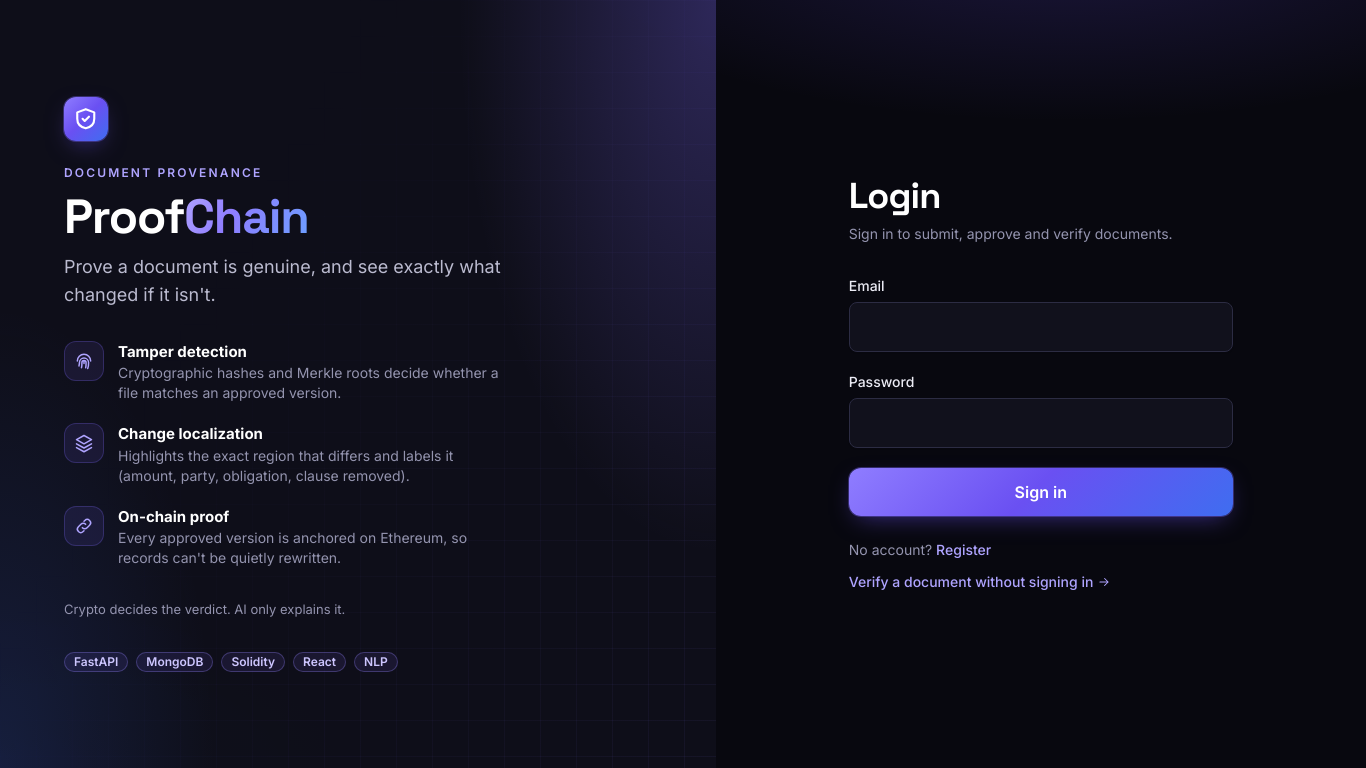
Test: Login page › shows the backend error message, never the password, on bad credentials
Type "a@b.com" into the field labelled "Email" at [1041, 327], box [849,302,1233,352]
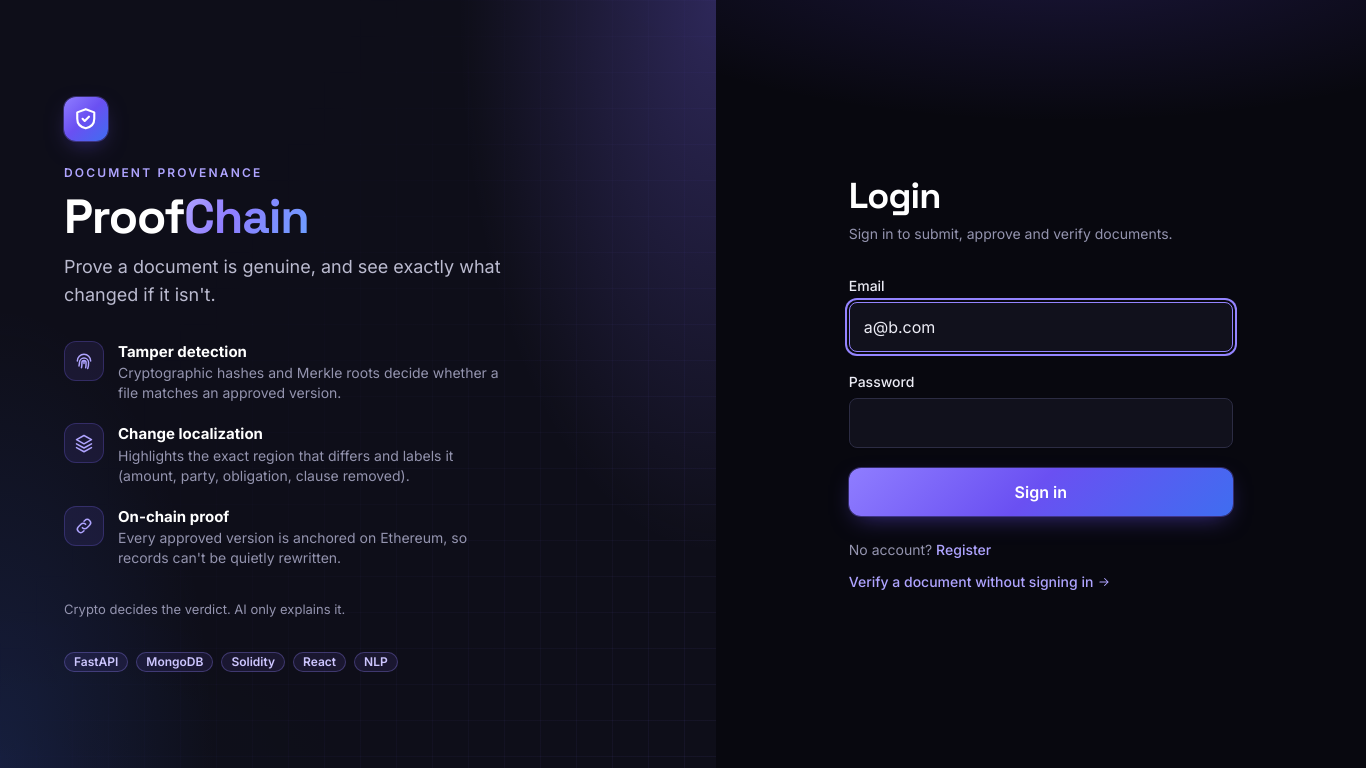
Type "definitely-secret-123" into the password field labelled "Password" at [1041, 423], box [849,398,1233,448]
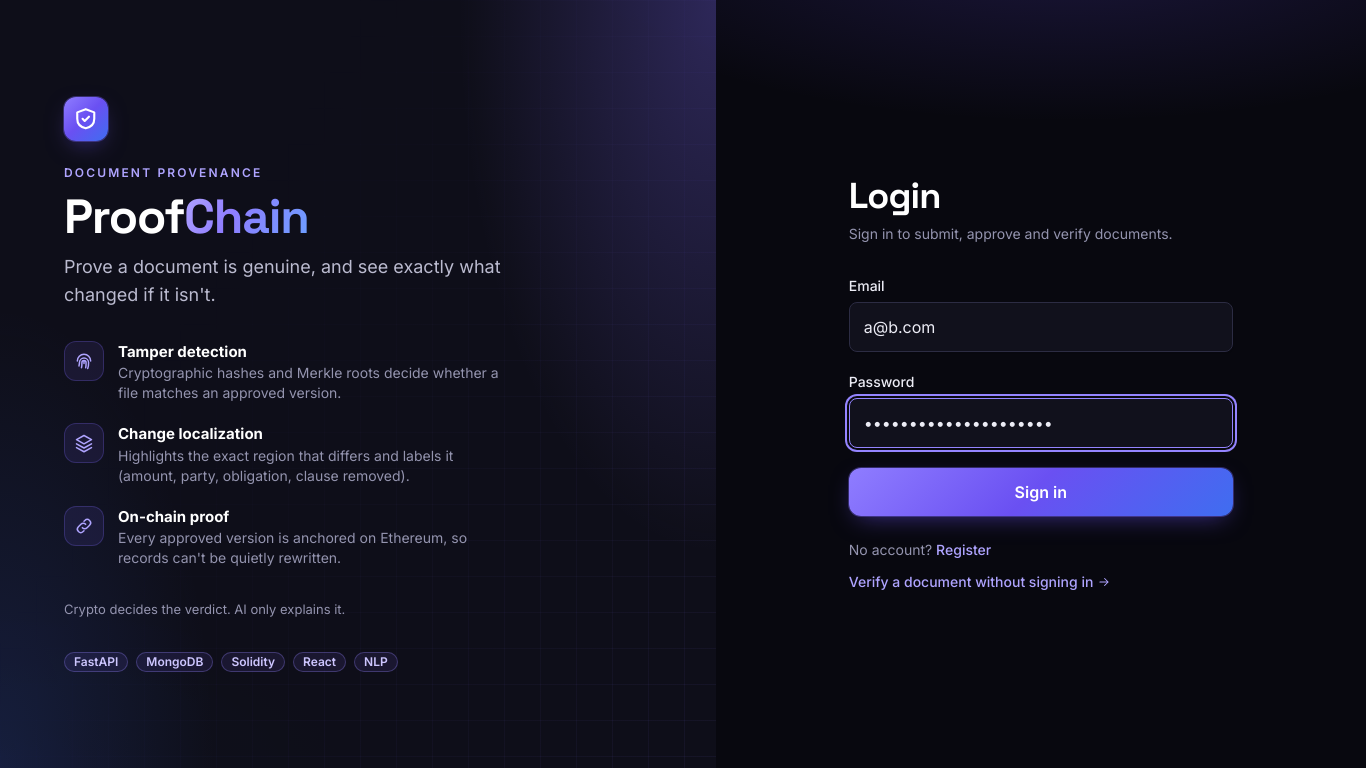
Click the button "Sign in" at [1041, 492], box [849,468,1233,516]
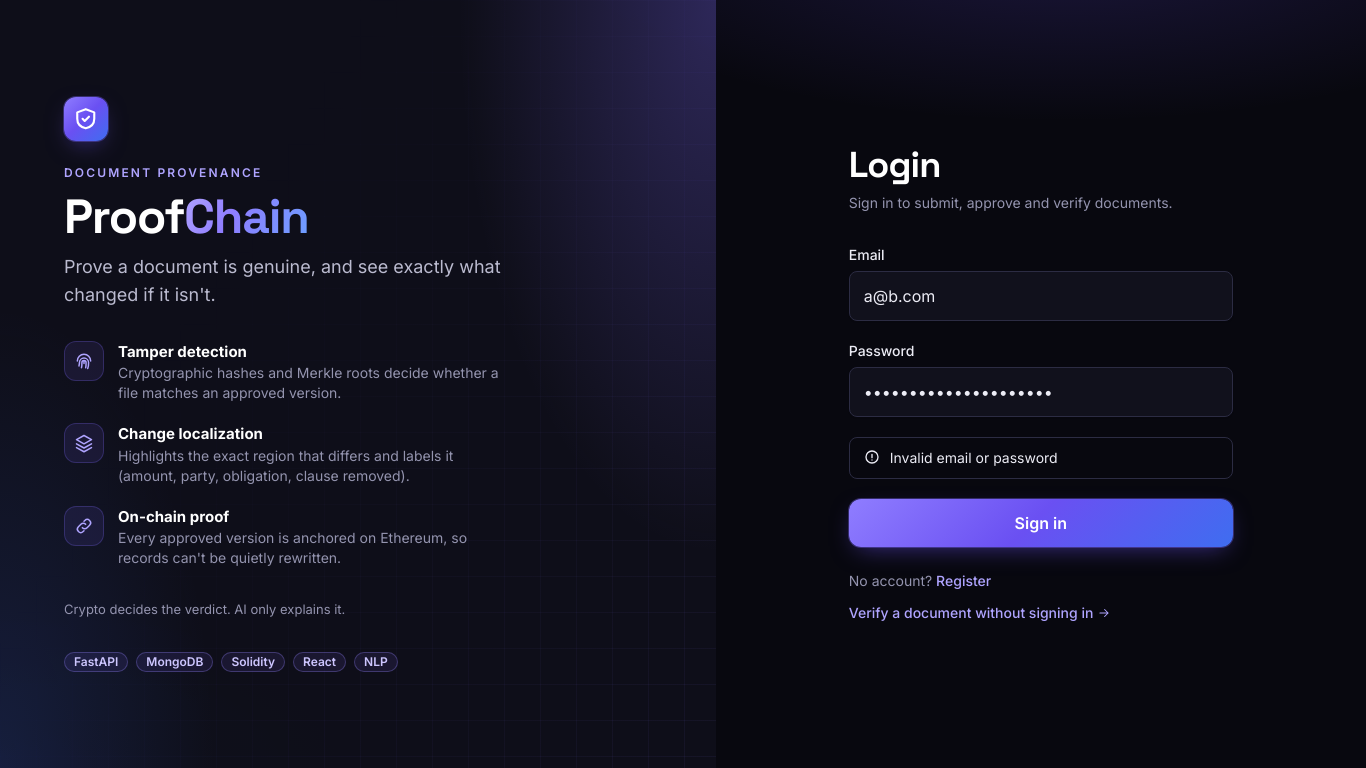
Now the message reads "Invalid email or password", box [890,449,1058,466]
